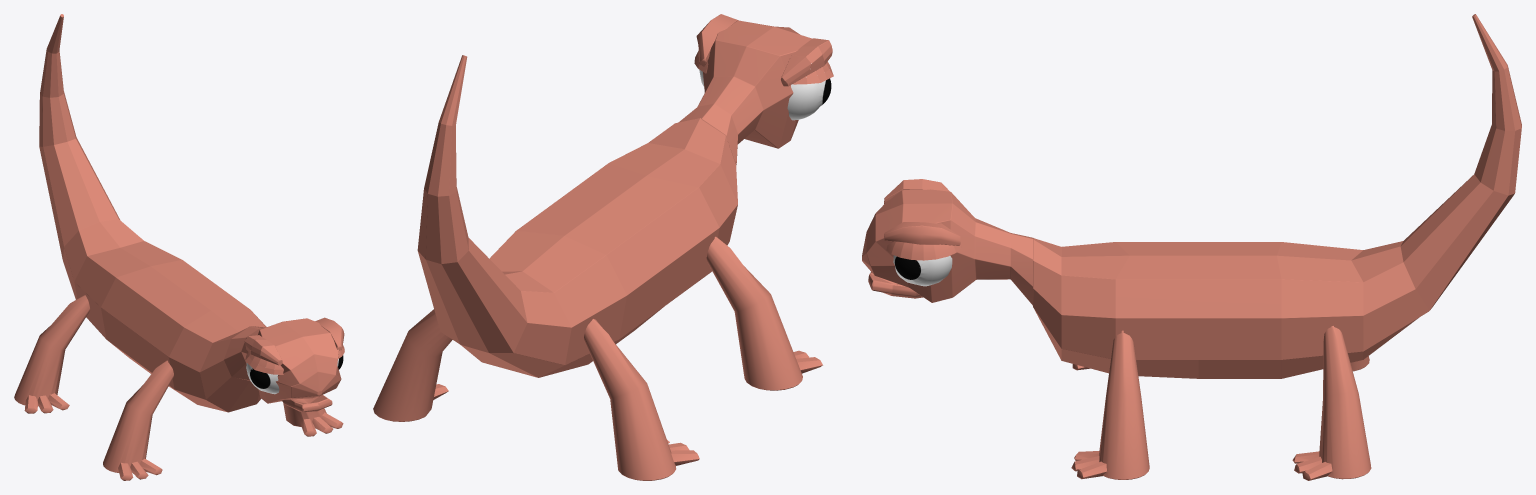
File: salamander.fbx
3 renders of one model, left to right at view 1: azimuth 30°, elevation 25°; view 2: azimuth 150°, elevation 25°; view 3: azimuth 270°, elevation 25°, orthographic. The views are drawn at different scales.
Visible parts, largest first — view 1: polySurface7; view 2: polySurface7; view 3: polySurface7.
Boxes of the visible parts, <box> form: polySurface7: <box>14,14,344,480</box>; polySurface7: <box>373,14,833,480</box>; polySurface7: <box>862,14,1521,480</box>.
Bounding box in the file's own units: 5.58 × 7.55 × 11.42.
